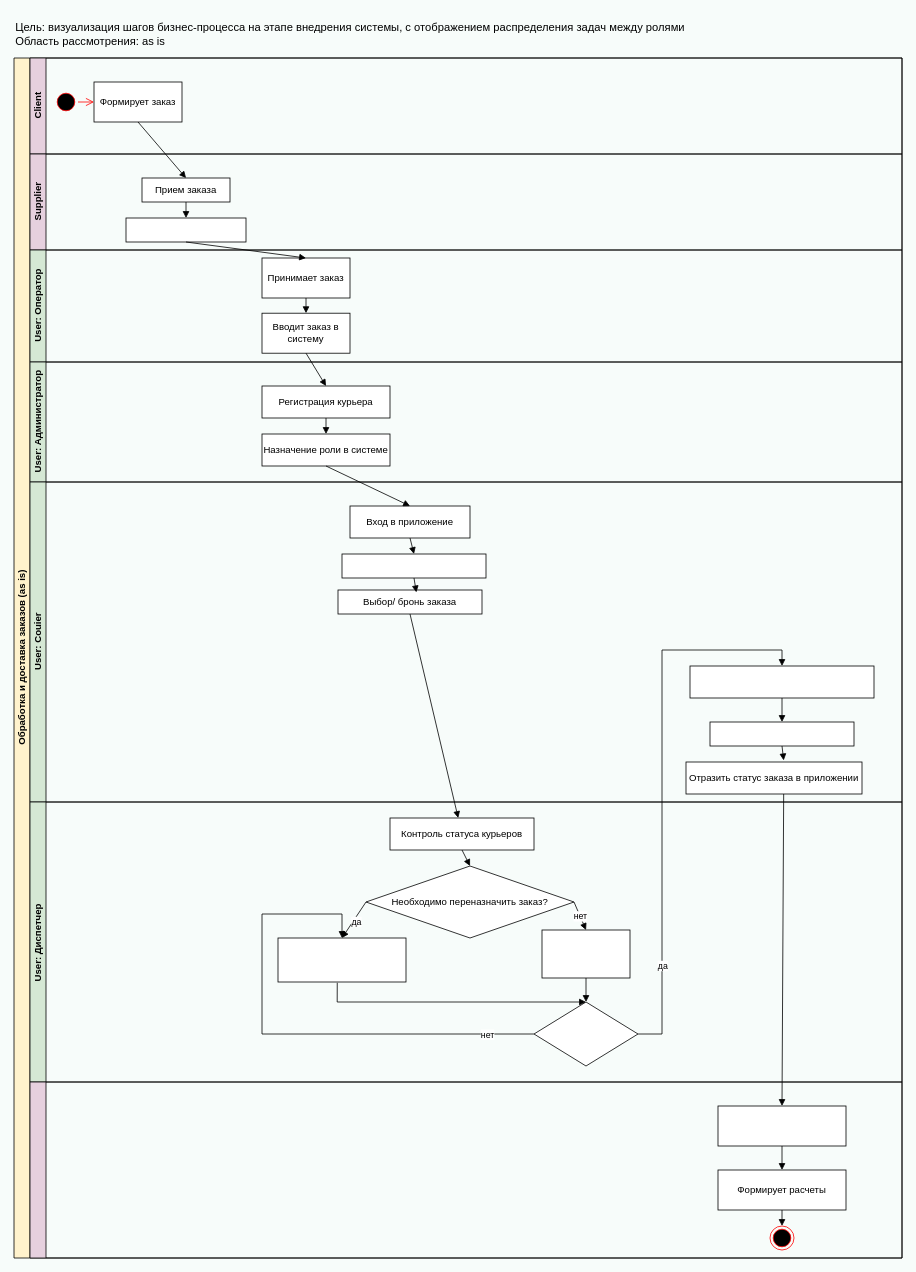
The diagram is 916 pixels wide and 1272 high, and some of its shapes have lost their labels. Each missing label, with the box of its shape:
Accounting: (29, 1081, 902, 1258)
Доставка заказа клиенту: (709, 721, 854, 746)
Заказ назначен курьеру?: (533, 1001, 638, 1066)
Назначение без изменений: (541, 929, 630, 978)
Передача инфо о заказе: (125, 217, 246, 242)
Переназначить заказ другому курьеру: (277, 937, 406, 982)
Получает информацию о заказах: (717, 1105, 846, 1146)
Получение заказа в точке комплектации: (689, 665, 874, 698)
Просмотр списка заказов: (341, 553, 486, 578)
